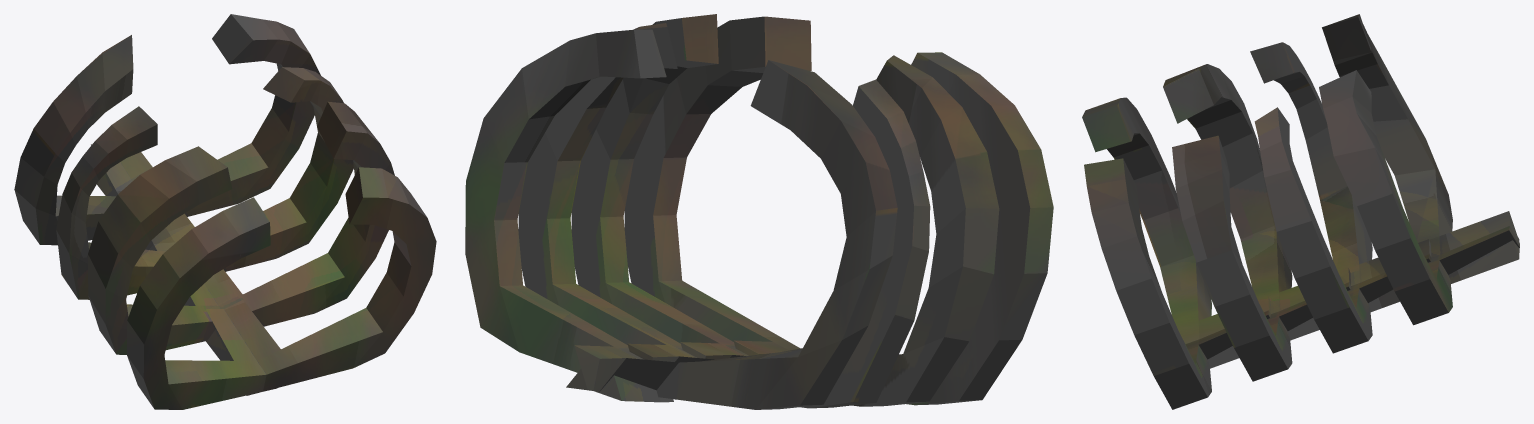
The model's file is kaburga.fbx.
3 renders of one model, left to right at view 1: azimuth 30°, elevation 25°; view 2: azimuth 150°, elevation 25°; view 3: azimuth 270°, elevation 25°, orthographic. The views are drawn at different scales.
Parts seen in each view (by area): view 1: Cube.110; view 2: Cube.110; view 3: Cube.110.
Part boxes in pixels (left/top/right/bottom): Cube.110: left=14, top=14, right=436, bottom=409; Cube.110: left=465, top=14, right=1053, bottom=409; Cube.110: left=1082, top=14, right=1519, bottom=409.
Size of the model in its own units: 161 by 166 by 202.
1 material, 1 textured.
